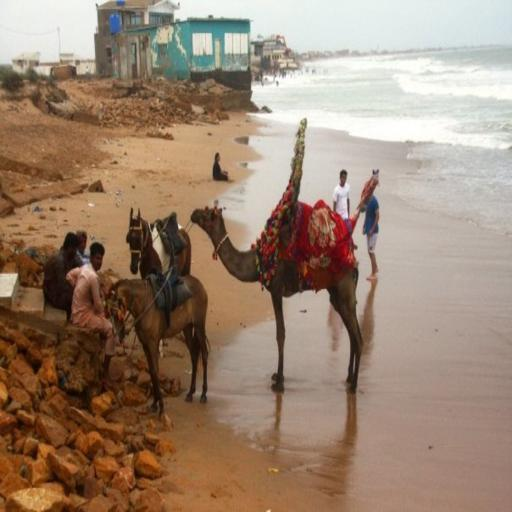horse: (103, 280, 208, 418), (125, 208, 191, 274)
